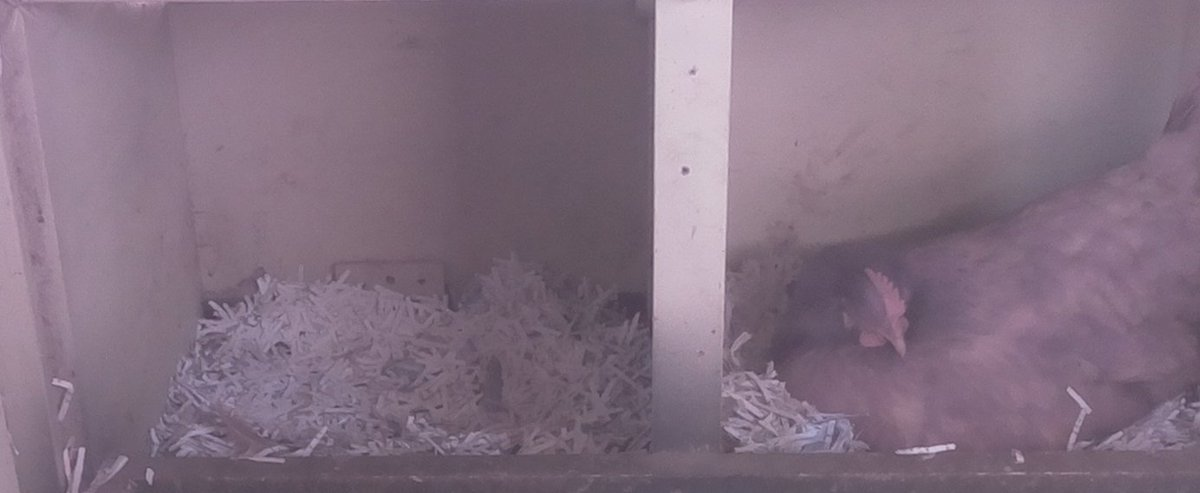hen: (764, 157, 1195, 448)
